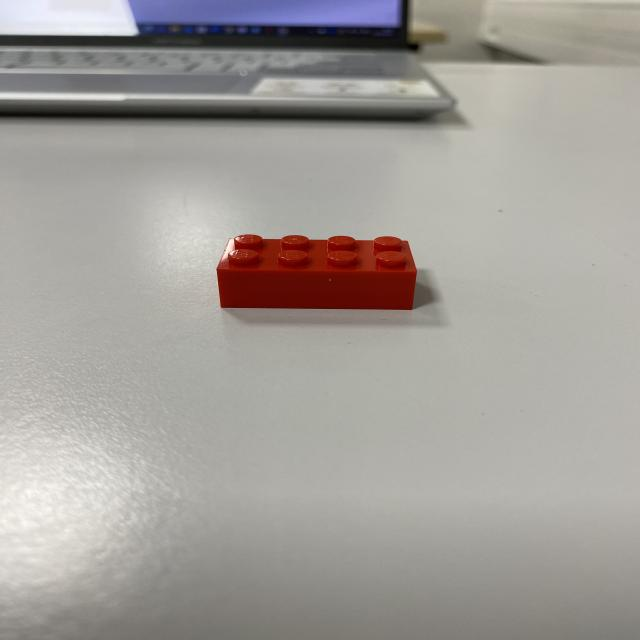C4x2x1: (217, 238, 418, 308)
